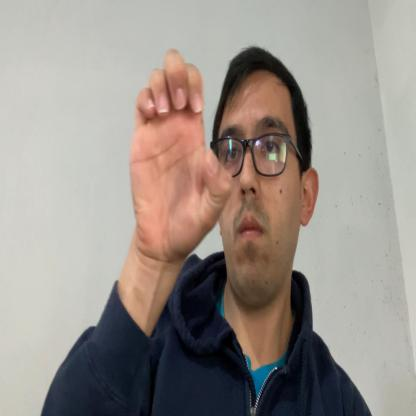E: (129, 49, 233, 266)
